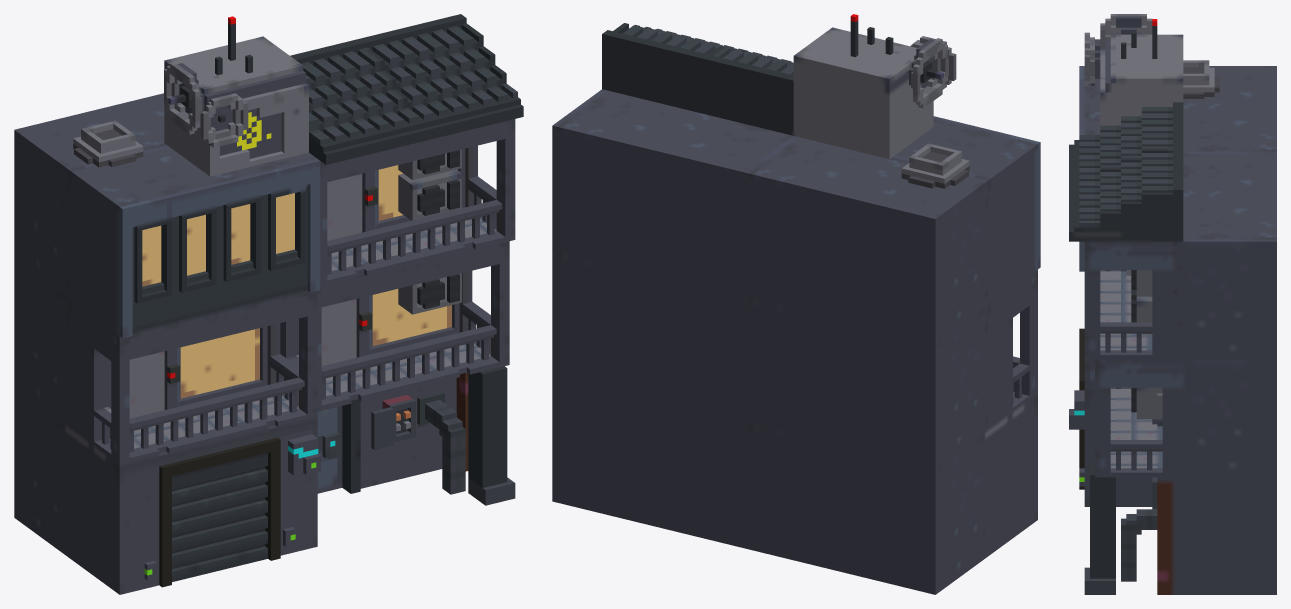
The picture shows the model from 3 angles, left to right: view 1: azimuth 30°, elevation 25°; view 2: azimuth 150°, elevation 25°; view 3: azimuth 270°, elevation 25°; orthographic projection. The views are drawn at different scales.
Parts seen in each view (by area): view 1: _2; view 2: _2; view 3: _2.
Boxes of the visible parts, left/top/right/bottom form: _2: left=14, top=14, right=523, bottom=594; _2: left=552, top=14, right=1040, bottom=594; _2: left=1069, top=14, right=1276, bottom=594.
Size of the model in its own units: 800 by 990 by 400.
